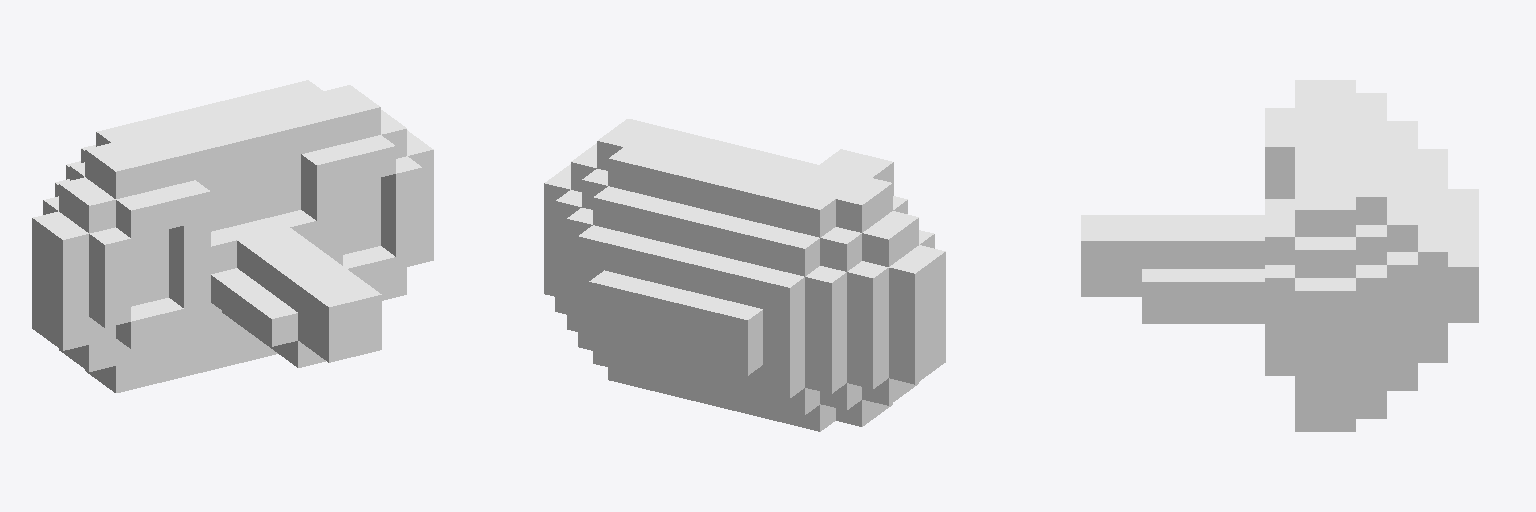
Rendered from nanchara_head.obj.
3 views of the same model, side by side, from view 1: azimuth 30°, elevation 25°; view 2: azimuth 150°, elevation 25°; view 3: azimuth 270°, elevation 25° (orthographic).
Visible parts, largest first — view 1: object 1; view 2: object 1; view 3: object 1.
Boxes of the visible parts, <box> form: object 1: <box>32,80,433,392</box>; object 1: <box>544,119,945,431</box>; object 1: <box>1081,80,1478,431</box>.
Bounding box in the file's own units: 2.8 × 1.6 × 2.6.